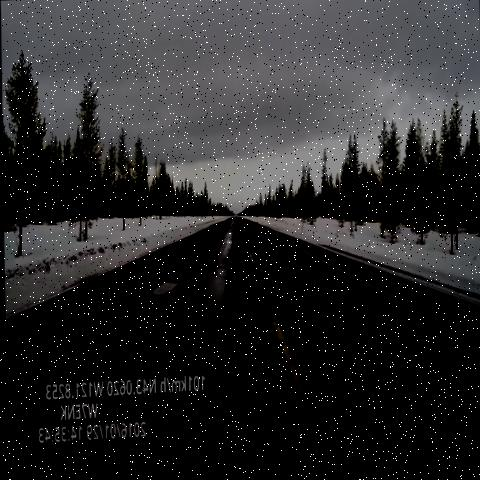pothole: (147, 268, 184, 311), (220, 221, 241, 237)
